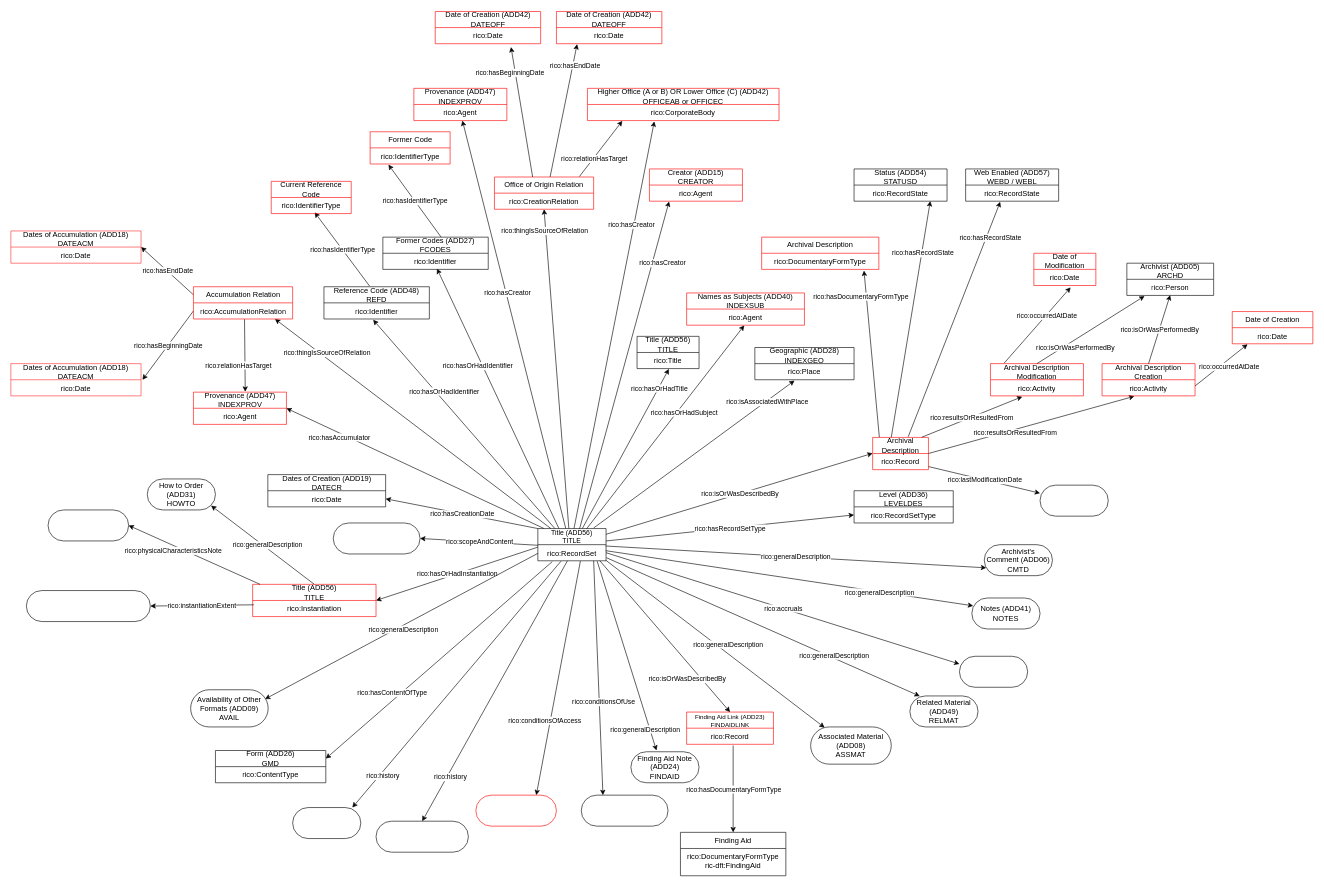
Image size: 1324x888. Some labels were removed from this diagram. The shapes that lost their labels are listed below. From the top down, each one's centre as x and y in pixels, then its label:
At (1073,500): "Date Modified (ADD21) MODDATE".
At (88,525): "Physical Condition (ADD45) PHYSCO".
At (376,538): "Scope and Content (ADD51) SCOPE".
At (88,606): "Physical Description (ADD46) PHDESC".
At (993,671): "Accruals (ADD02) ACCRUAL".
At (326,823): "Custodial History (ADD17) CUSTOD".
At (515,810): "Access Restrictions (ADD01) RESTRTX / REST".
At (624,810): "Terms Governing Use (ADD55) TGU".
At (421,836): "Immediate Source of Acquisition (ADD33) ISA".
